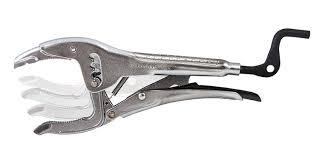pliers: (12, 27, 310, 135)
